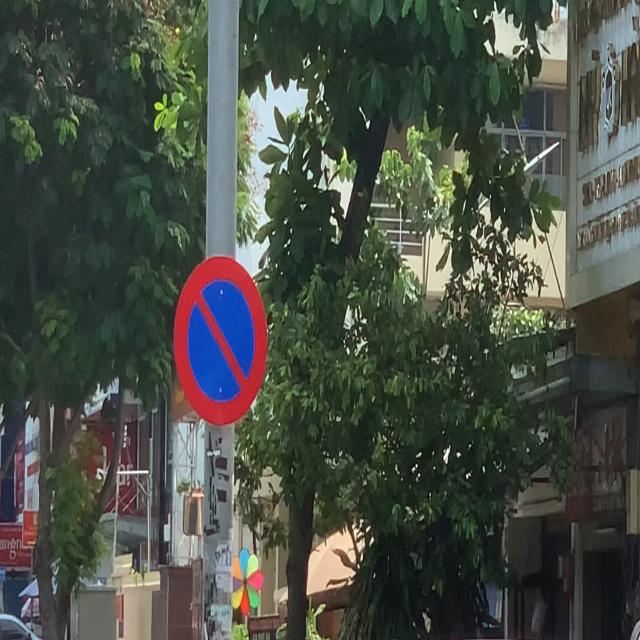Cam do: (173, 251, 273, 427)
